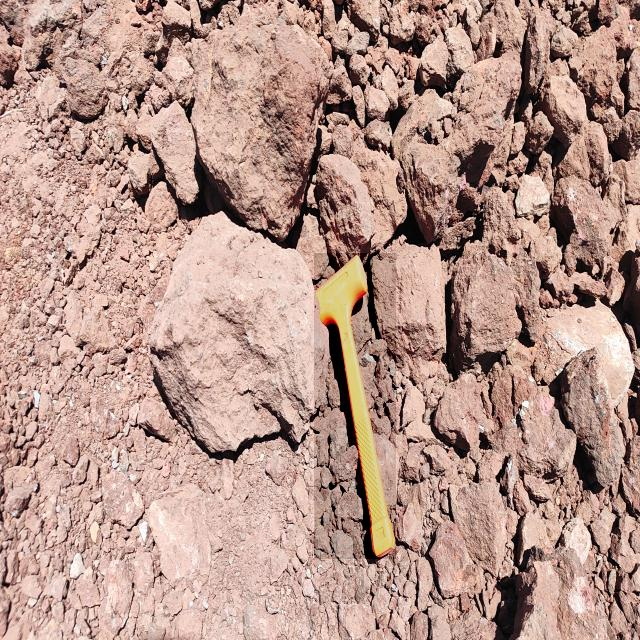Orange_hammer: (314, 253, 396, 559)
